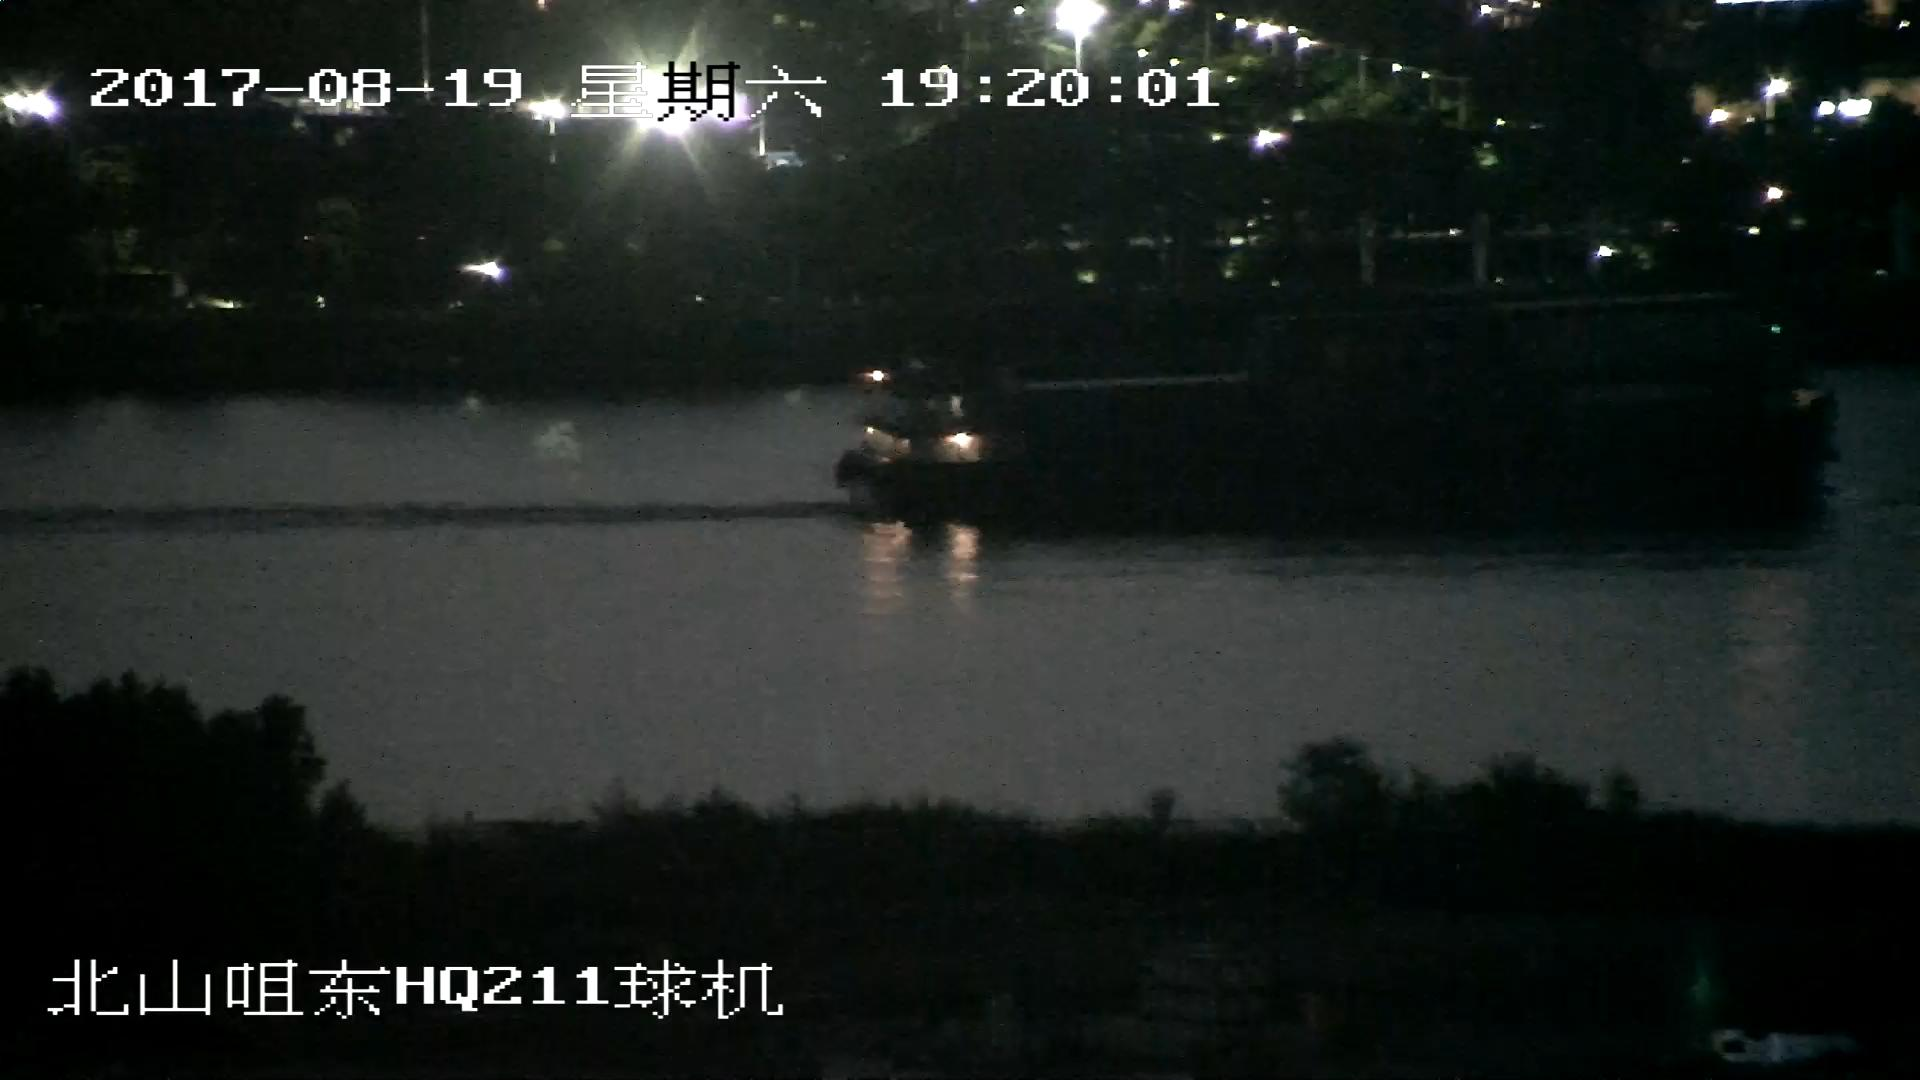container ship: (856, 315, 1831, 556)
